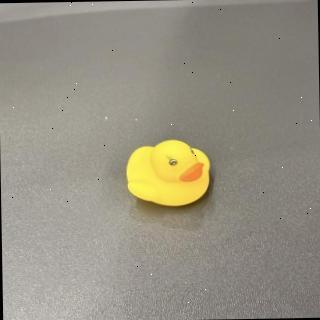duck_regular: (128, 140, 211, 208)
